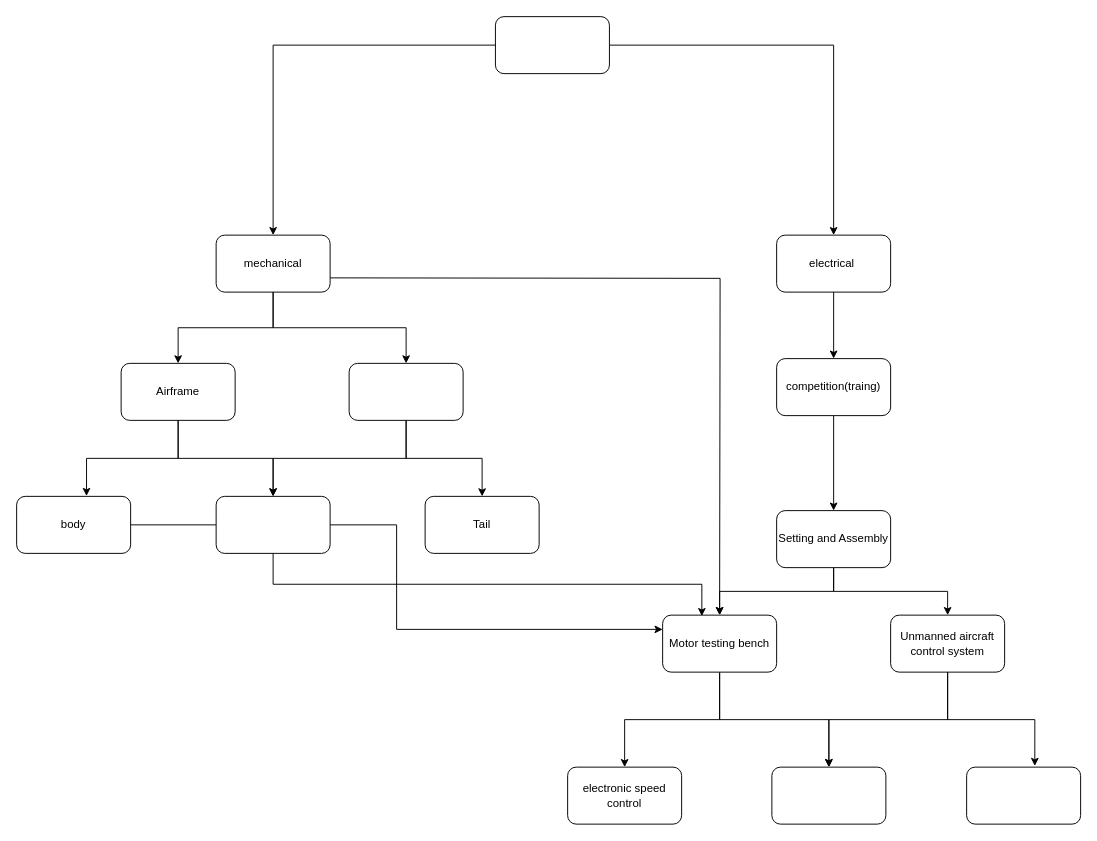
This 1097x841 diagram has some shape labels left out. Here are the shapes that lost their labels. From the top down, the centre of each, then its label:
point 551,45: Engineering officer
point 405,391: aerodynamic
point 272,524: wing
point 828,795: battery management system
point 1023,795: flight control
